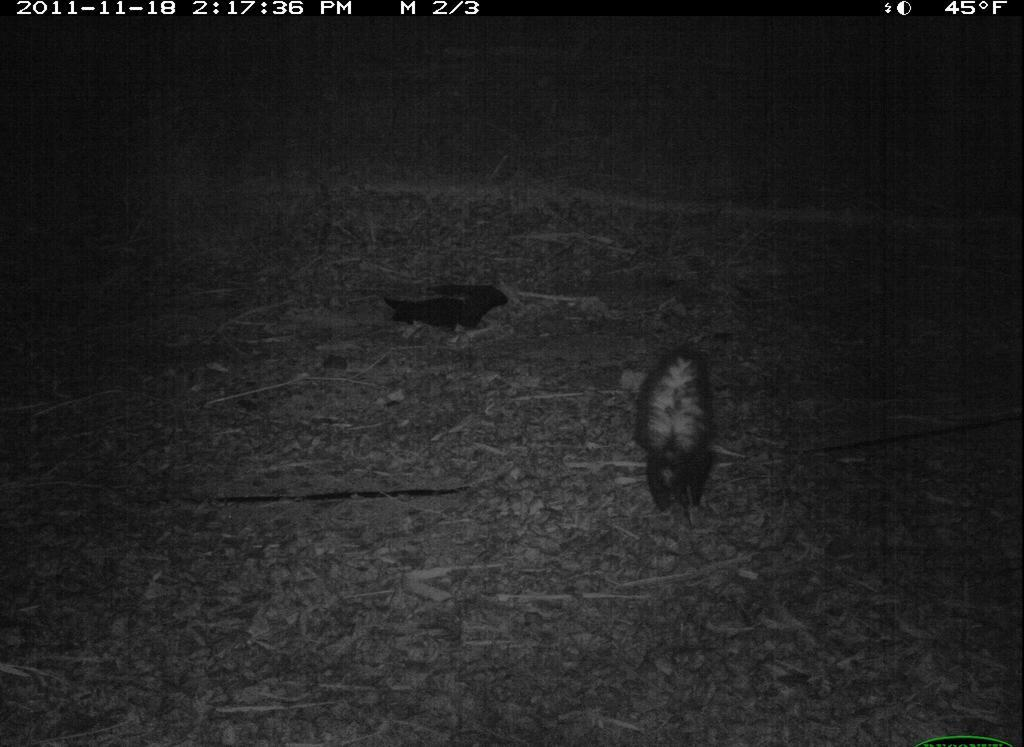skunk: (634, 333, 724, 524)
